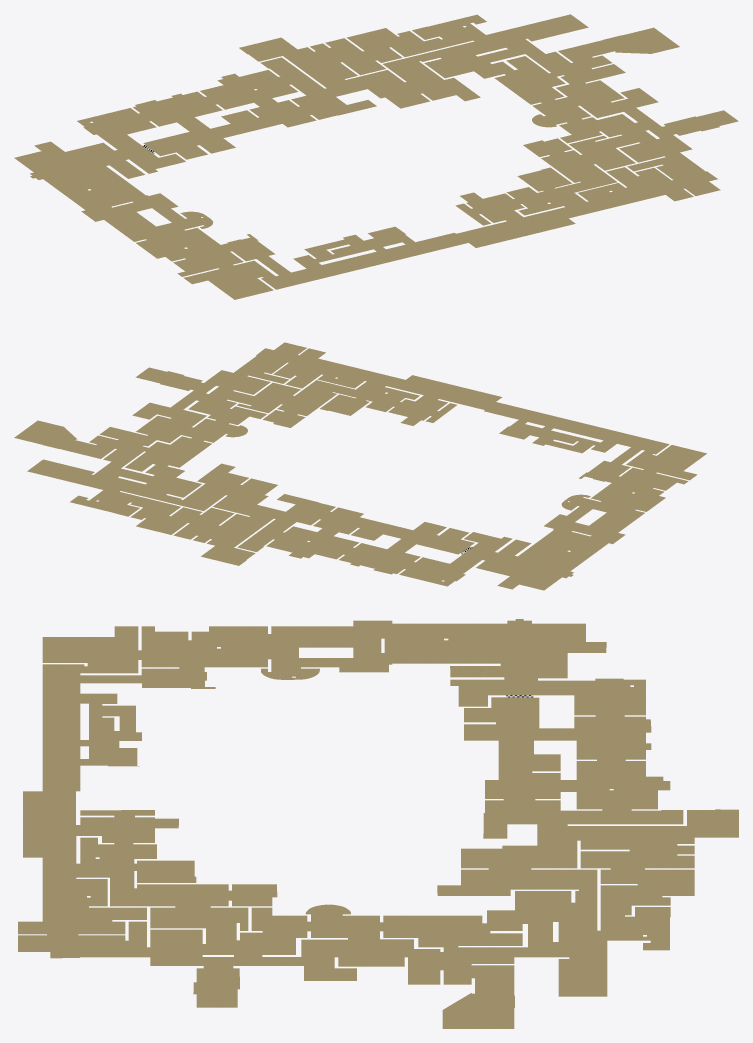
File: minimap.obj
3 views of the same model, one above another, from view 1: azimuth 30°, elevation 25°; view 2: azimuth 150°, elevation 25°; view 3: azimuth 270°, elevation 25° (orthographic). The views are drawn at different scales.
Visible parts, largest first — view 1: floor_002; view 2: floor_002; view 3: floor_002.
Boxes of the visible parts, left/top/right/bottom form: floor_002: left=14, top=14, right=738, bottom=299; floor_002: left=14, top=342, right=706, bottom=590; floor_002: left=18, top=619, right=738, bottom=1028.
Bounding box in the file's own units: 91188 × 170 × 68160.
3 materials, 3 textured.
